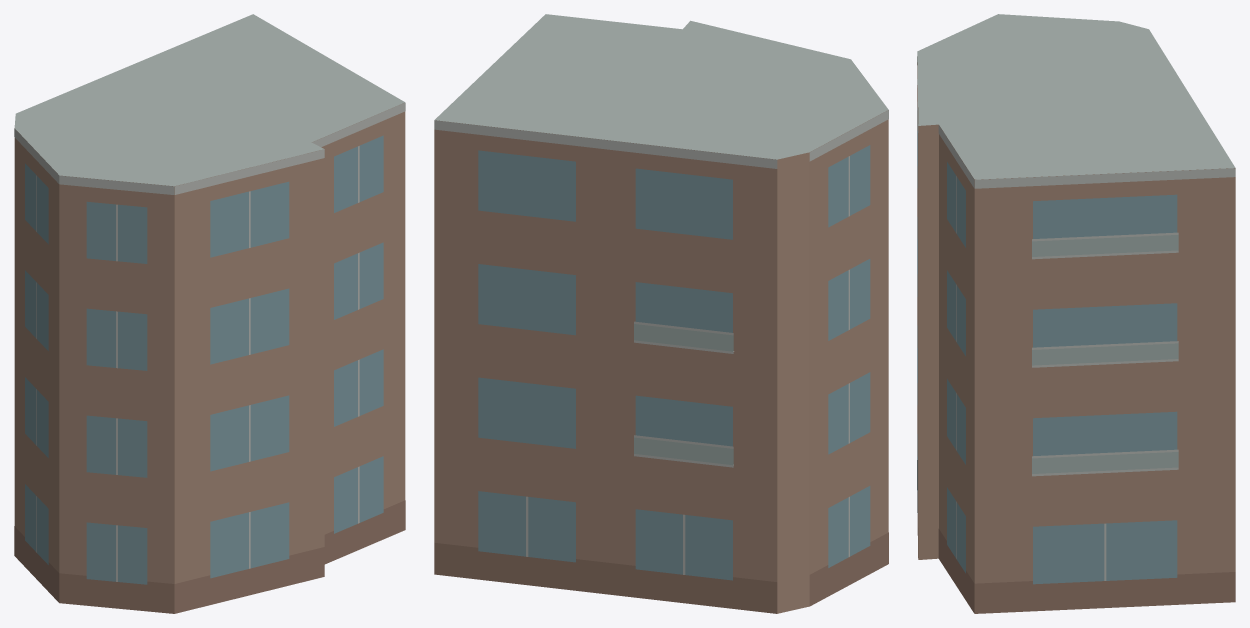
File: survey-upis-32469882.glb
3 renders of one model, left to right at view 1: azimuth 30°, elevation 25°; view 2: azimuth 150°, elevation 25°; view 3: azimuth 270°, elevation 25°, orthographic. The views are drawn at different scales.
Parts seen in each view (by area): view 1: survey-upis-32469882.tmp; view 2: survey-upis-32469882.tmp; view 3: survey-upis-32469882.tmp.
Boxes of the visible parts, box(x1,y1,x2,y2) form: survey-upis-32469882.tmp: box(14, 14, 405, 613); survey-upis-32469882.tmp: box(434, 14, 888, 613); survey-upis-32469882.tmp: box(917, 14, 1235, 613).
Bounding box in the file's own units: 9.59 × 11.7 × 7.79.
